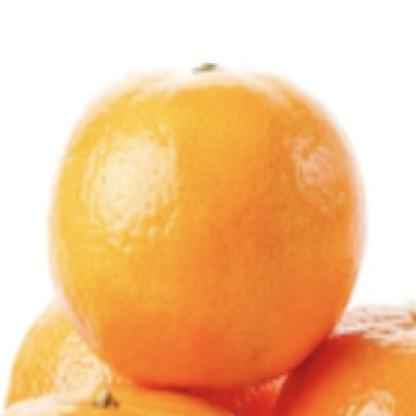fresh: (53, 62, 360, 393)
